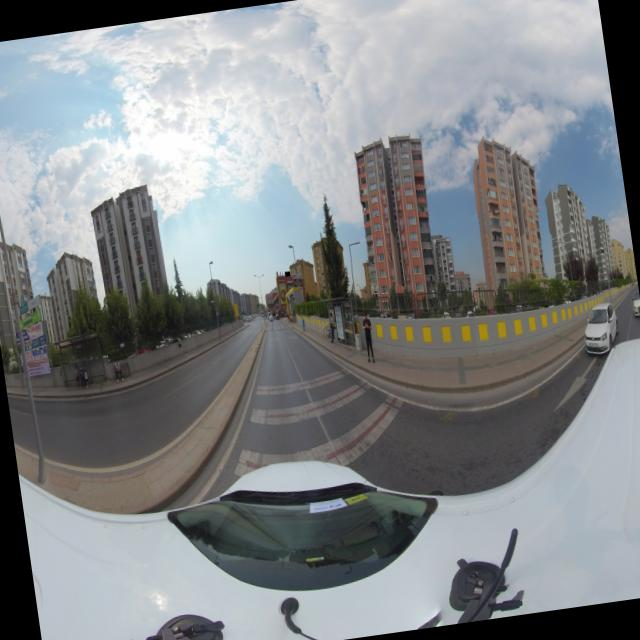SignStore: (285, 272, 291, 277)
